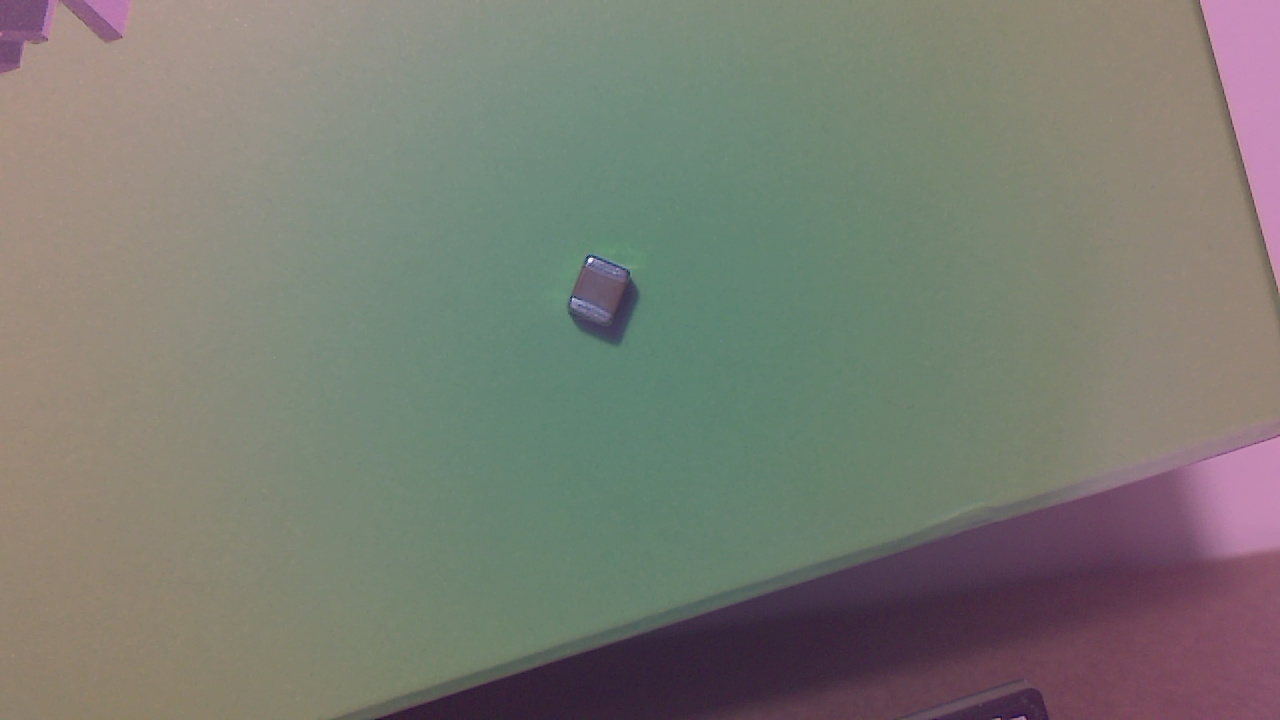Condensator: (571, 258, 640, 336)
